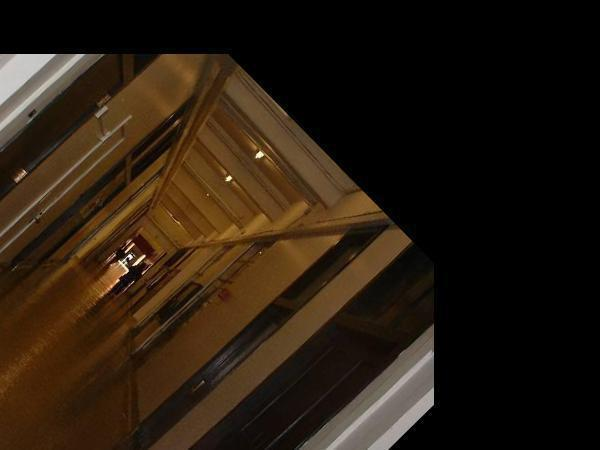Puerta: (115, 316, 385, 450), (0, 48, 132, 319), (120, 295, 291, 450), (0, 114, 138, 283)
